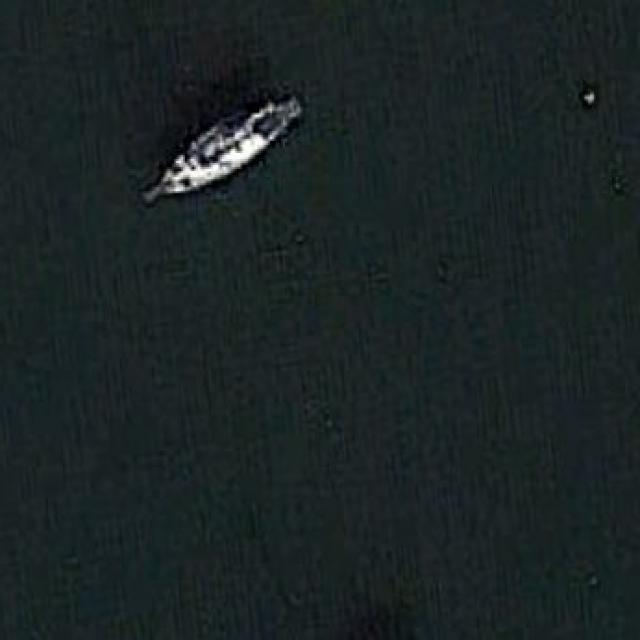ship: (150, 93, 311, 199)
